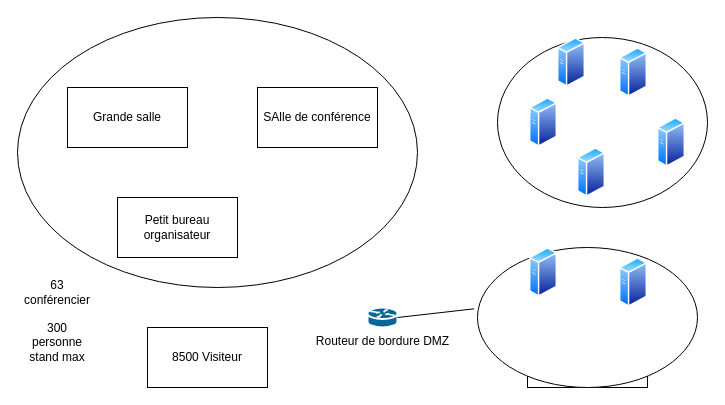
Some shapes in this 725 by 405 pixel diagram are drawn without their labels. The shapes that lost their labels are listed below. From the top down, each one's box as (x1, y1, x2, y2) in pixels, then its label:
(496, 36, 708, 208): Server
(16, 16, 418, 288): WIFI
(476, 246, 698, 388): DMZ
